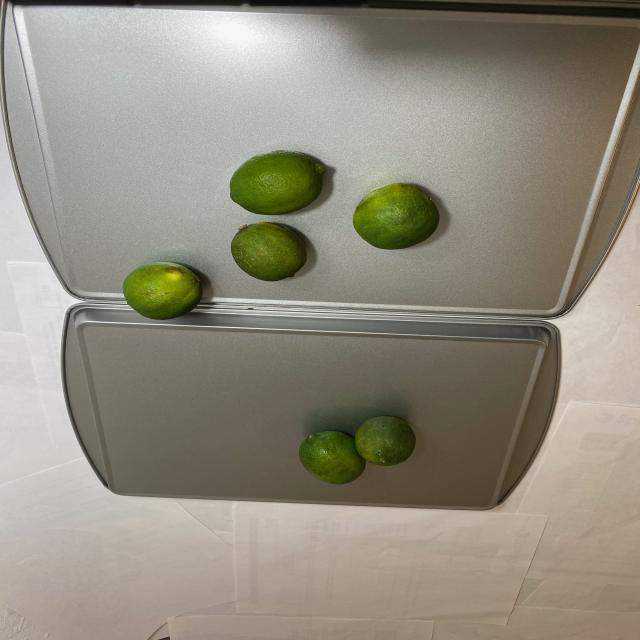lemon: (123, 137, 444, 322), (298, 414, 412, 487)
